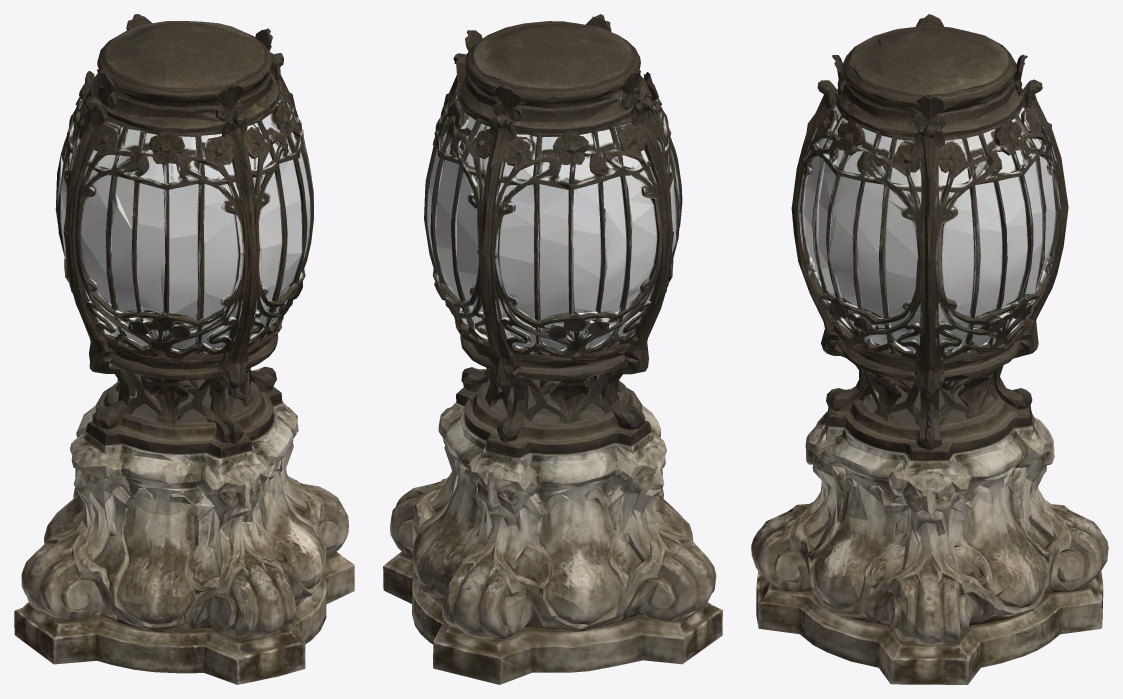
Rendered from station_lantern.glb.
3 renders of one model, left to right at view 1: azimuth 30°, elevation 25°; view 2: azimuth 150°, elevation 25°; view 3: azimuth 270°, elevation 25°, orthographic.
Parts seen in each view (by area): view 1: Mesh_0; view 2: Mesh_0; view 3: Mesh_0.
Boxes of the visible parts, x1,y1,x2,y2 form: Mesh_0: [14, 14, 354, 684]; Mesh_0: [383, 14, 722, 684]; Mesh_0: [751, 14, 1108, 684].
Bounding box in the file's own units: 1.09 × 1.9 × 1.09.
Materials: 1 (1 with a texture image).
